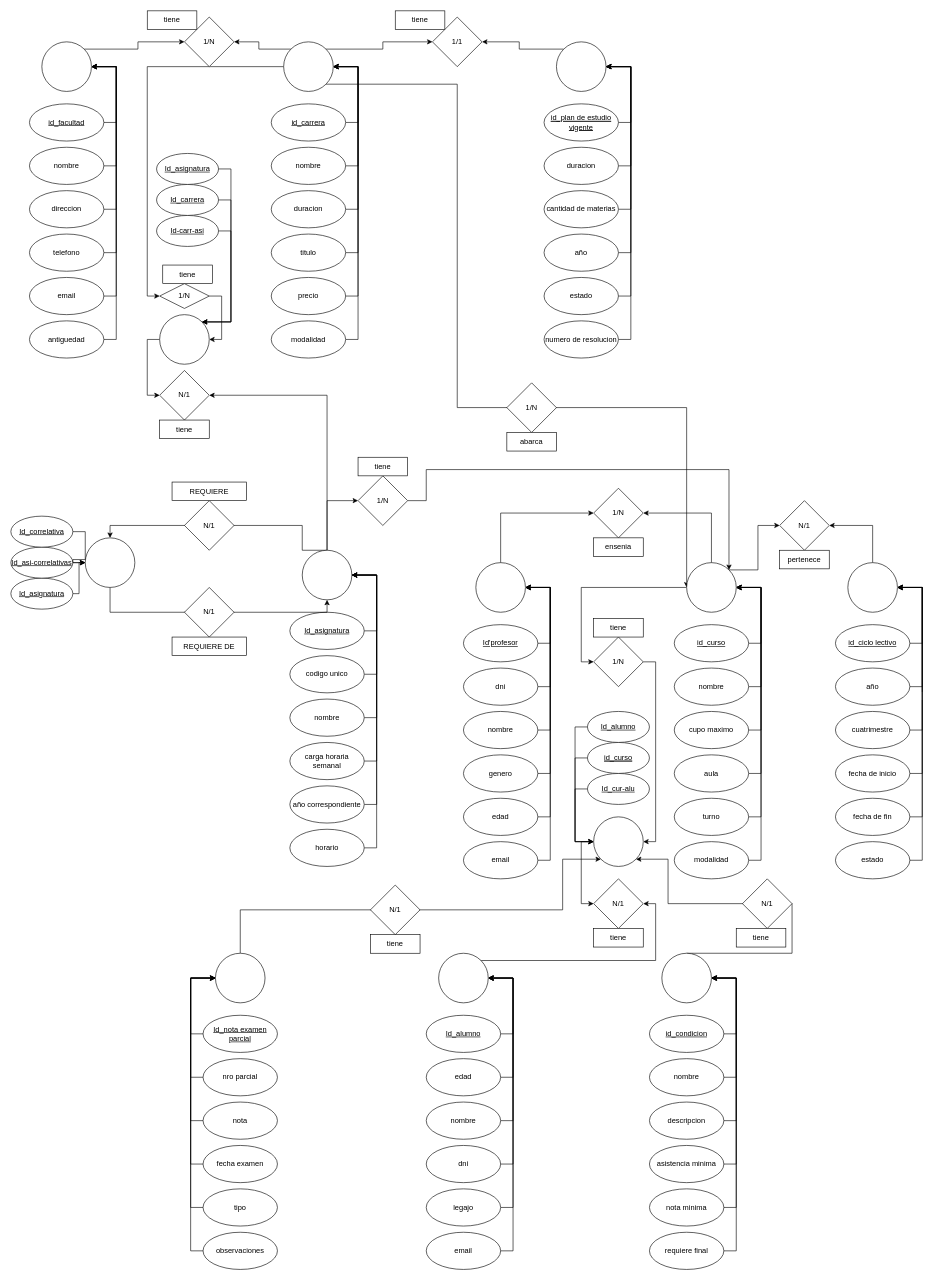
This 938x1280 diagram has some shape labels left out. The shapes that lost their labels are listed below. From the top down, each one's centre as x and y in pixels, then its label:
the point at 66,66: FACULTAD
the point at 308,66: CARRERA
the point at 581,66: PLAN DE ESTUDIO VIGENTE
the point at 184,339: CARR-ASI
the point at 110,562: ASI-CORRELATIVAS
the point at 327,575: ASIGNATURA
the point at 500,587: PROFESOR
the point at 711,587: CURSO
the point at 872,587: CICLO LECTIVO
the point at 618,841: CUR-ALU
the point at 240,978: NOTA EXAMEN PARCIAL
the point at 463,978: ALUMNO
the point at 686,978: CONDICION
